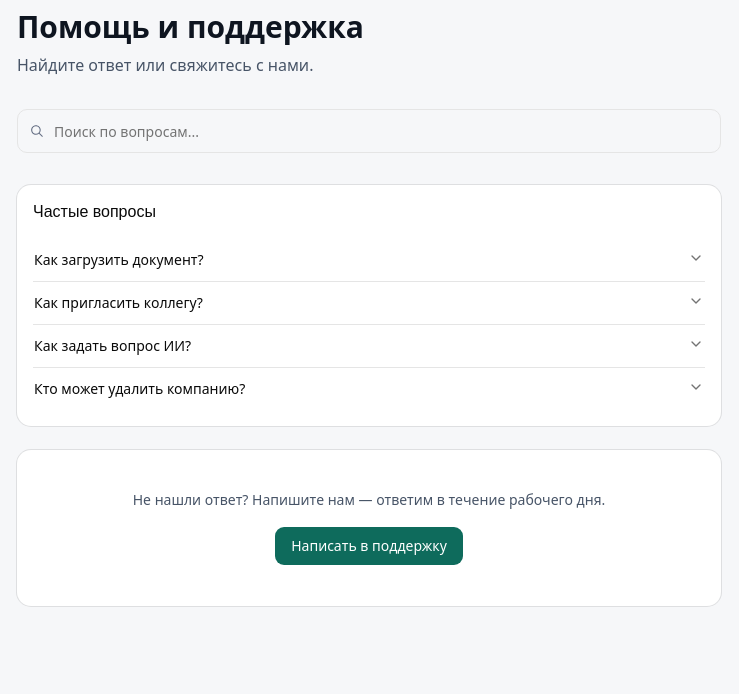
SupportPage › раскрывает ответ на вопрос о загрузке документа
The image size is (739, 694).
Click the button "Как загрузить документ?": click(119, 260) [33,239,705,281]
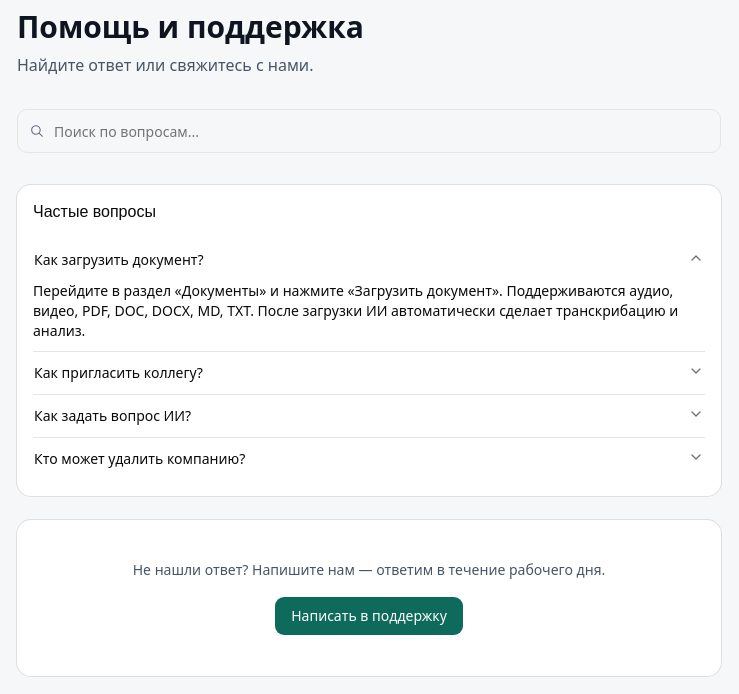
expect the text "Поддерживаются аудио, видео, PDF, DOC, DOCX, MD, TXT" is shown: met, box [33,281,678,340]
